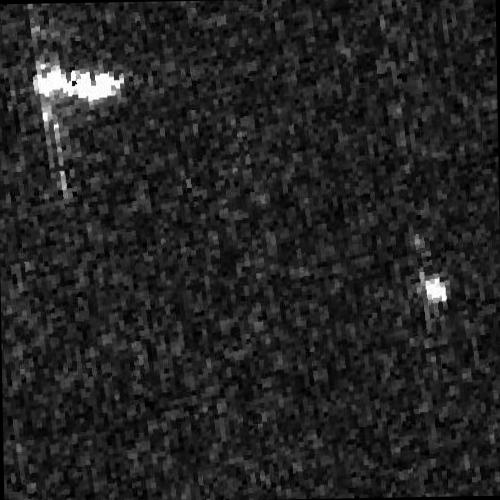ship: (31, 63, 126, 102), (422, 274, 450, 308)
